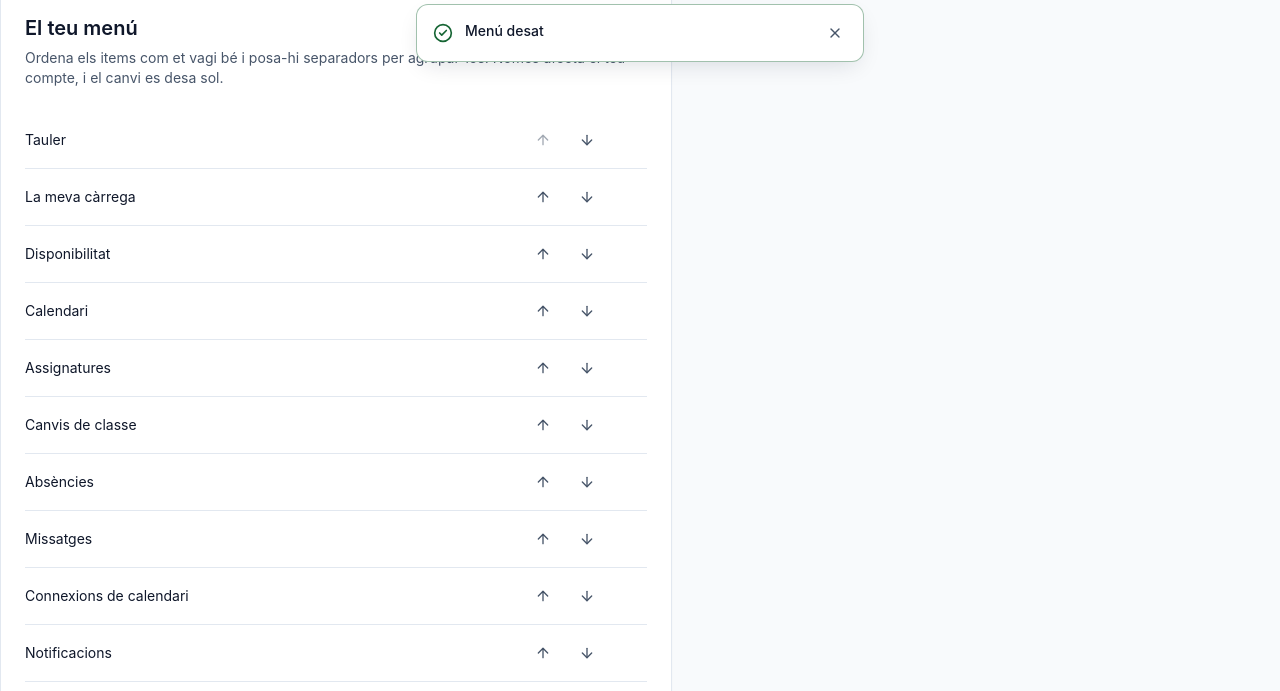
it: arranging your own menu › says whether there is anything to save
This screenshot has width=1280, height=691.
Click the button named "Baixa Tauler" at [587, 140], box [567,120,607,160]
(page scrolled)
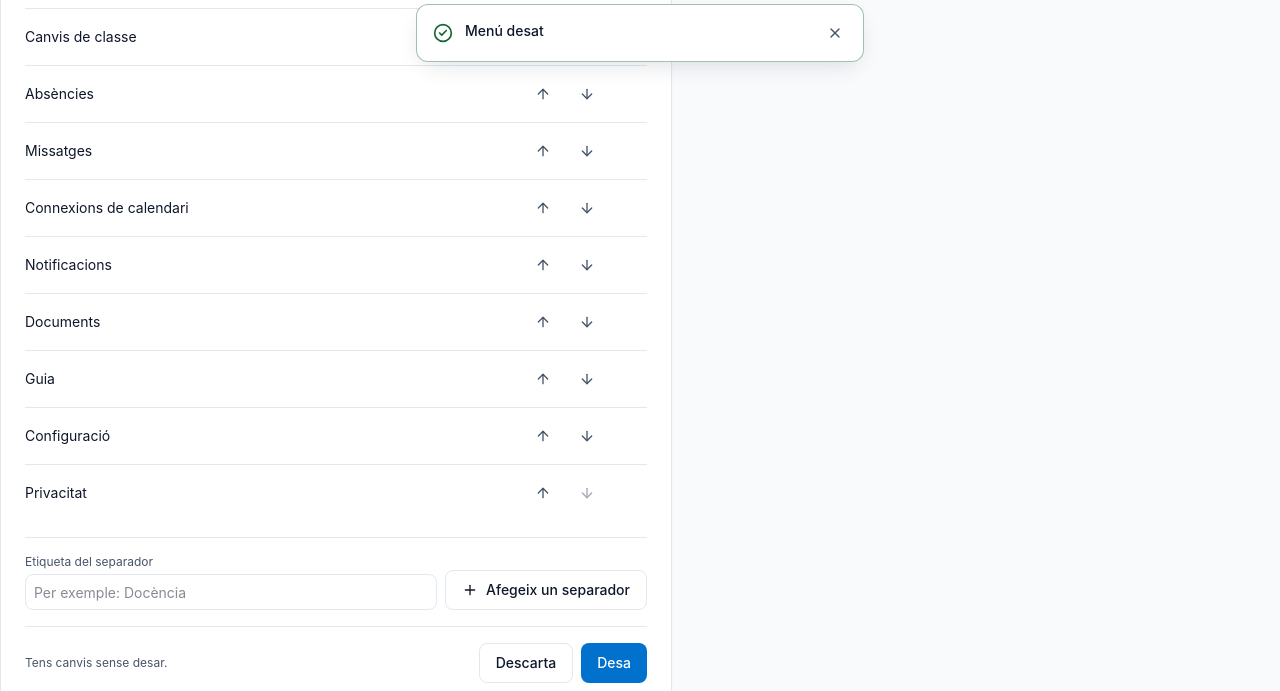
Now the text "Tens canvis sense desar." is shown, box [25,655,167,671]
